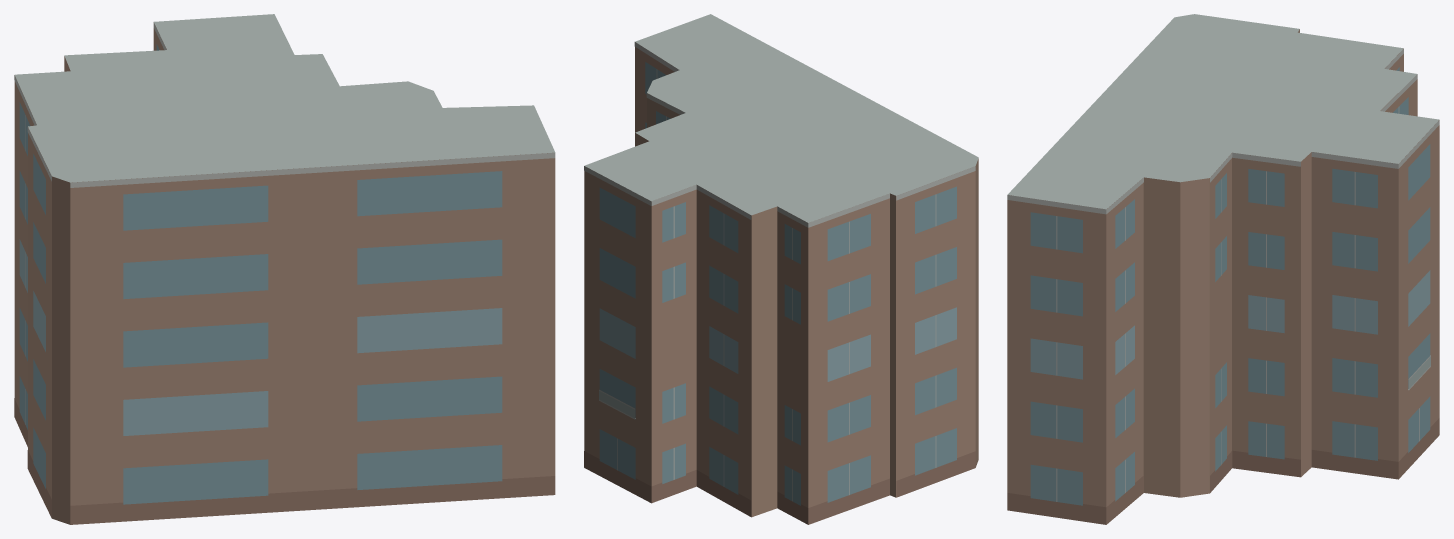
File: survey-upis-32875569.glb
The picture shows the model from 3 angles, left to right: view 1: azimuth 30°, elevation 25°; view 2: azimuth 150°, elevation 25°; view 3: azimuth 270°, elevation 25°; orthographic projection. The views are drawn at different scales.
Parts seen in each view (by area): view 1: survey-upis-32875569.tmp; view 2: survey-upis-32875569.tmp; view 3: survey-upis-32875569.tmp.
Boxes of the visible parts, <box> form: survey-upis-32875569.tmp: <box>14,14,555,524</box>; survey-upis-32875569.tmp: <box>584,14,978,524</box>; survey-upis-32875569.tmp: <box>1007,14,1439,524</box>.
Size of the model in its own units: 20.19 by 15.2 by 18.88.
